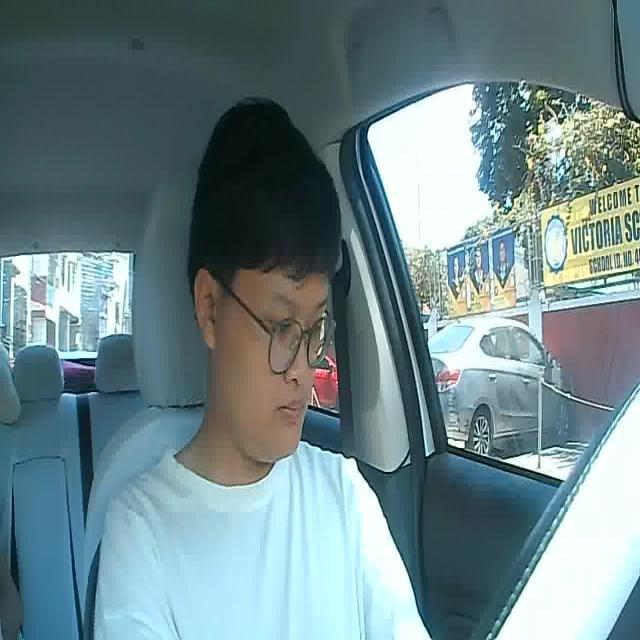Eye-Open: (269, 315, 297, 339), (304, 316, 322, 338)
Inattentive: (186, 94, 347, 466)
Normal: (280, 394, 307, 422)
